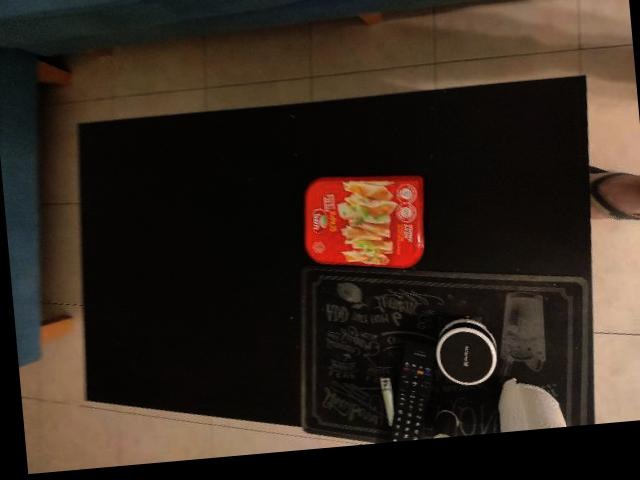cheese: (297, 164, 443, 272)
